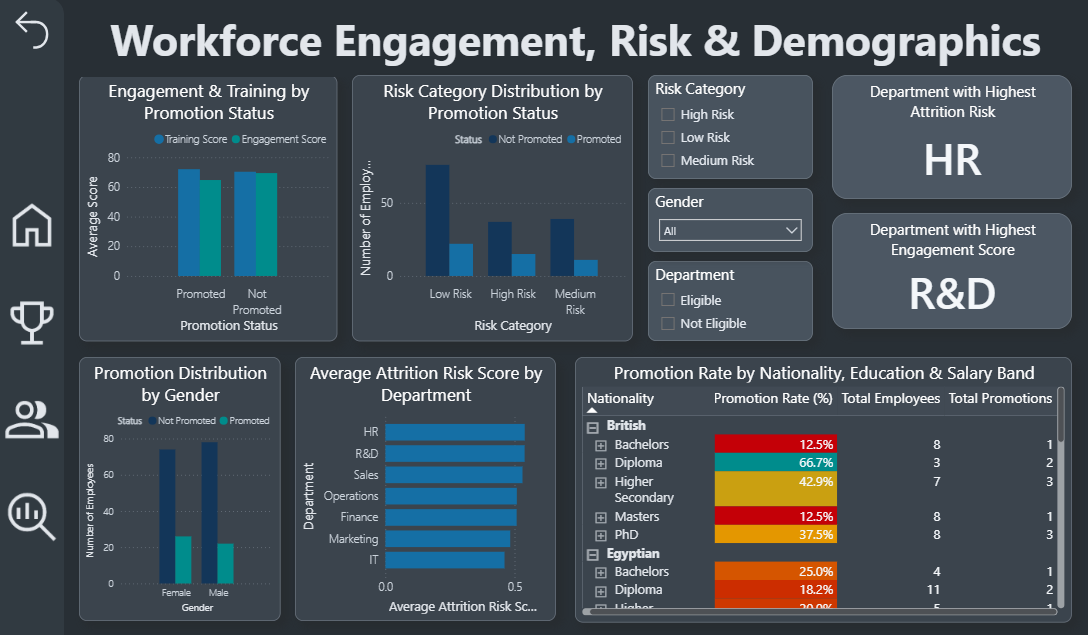

This screenshot's page, from the dashboard's own definition file:
{"tool":"powerbi","page":{"name":"Engagement, Risk & Demographics","canvas":[1360,800],"ordinal":2},"visuals":[{"type":"shape","box":[0,0,80,800],"z":0,"group":"g1"},{"type":"clusteredColumnChart","title":"Engagement & Training by Promotion Status","fields":{"Category":["Employees.Promotion Status"],"Y":["Avg(Employees.avg_training_score)","Measure Table.Average Engagement"]},"box":[98.7,96.6,322.9,332.5],"z":0},{"type":"pivotTable","title":"Promotion Rate by Nationality, Education & Salary Band","fields":{"Rows":["Employees.nationality","Employees.education","Employees.salary_band"],"Values":["Measure Table.Promotion Rate %","Measure Table.Total Employees","Measure Table.Total Promoted"]},"box":[718.8,448.7,621.4,331.6],"z":1000},{"type":"shape","box":[98.8,0,1241.2,98.8],"z":2000},{"type":"actionButton","box":[0,10,80,60],"z":2000,"group":"g1"},{"type":"group","id":"g1","title":"Group 2","box":[0,0,80,800],"z":3000},{"type":"clusteredColumnChart","title":"Risk Category Distribution by Promotion Status","fields":{"Y":["Measure Table.Total Employees"],"Series":["Employees.Promotion Status"],"Category":["Employees.Risk Category"]},"box":[439.7,96.6,350.6,332.5],"z":4000},{"type":"actionButton","box":[0,243.8,80,80],"z":4000,"group":"g1"},{"type":"clusteredBarChart","title":"Average Attrition Risk Score by Department","fields":{"Category":["Employees.department"],"Y":["Measure Table.Average Attrition Risk"]},"box":[368.7,448.7,325.8,330.4],"z":5000},{"type":"actionButton","box":[0,486.2,80,80],"z":5000,"group":"g1"},{"type":"clusteredColumnChart","title":"Promotion Distribution by Gender","fields":{"Y":["Measure Table.Total Employees"],"Series":["Employees.Promotion Status"],"Category":["Employees.gender"]},"box":[98.7,448.4,251.8,330.1],"z":6000},{"type":"actionButton","box":[0,608.8,80,80],"z":6000,"group":"g1"},{"type":"slicer","title":"Department","fields":{"Values":["Employees.Promotion_Eligibility"]},"box":[809.6,329.2,206,100],"z":7000},{"type":"actionButton","box":[0,366.2,80,80],"z":7000,"group":"g1"},{"type":"slicer","title":"Risk Category","fields":{"Values":["Employees.Risk Category"]},"box":[809.6,96.6,206,130.1],"z":8000},{"type":"slicer","title":"Gender","fields":{"Values":["Employees.gender"]},"box":[809.6,237.6,206,79.5],"z":9000},{"type":"card","title":"Department with Highest Engagement Score","fields":{"Values":["Min(Employees.department)"]},"box":[1039.9,268.7,300.3,161.2],"z":10000},{"type":"card","title":"Department with Highest Attrition Risk","fields":{"Values":["Min(Employees.department)"]},"box":[1039.7,96.6,300,155.4],"z":11000}]}

Visuals, with their boxes on the page's 1360x800 design canvas (x1, y1, x2, y2). These are canvas units, not pixel positions in the 1088x635 screenshot, which may show the page scaled, cropped or inside an application window:
shape: Rect(0, 0, 80, 800)
"Engagement & Training by Promotion Status" clusteredColumnChart: Rect(99, 97, 422, 429)
"Promotion Rate by Nationality, Education & Salary Band" pivotTable: Rect(719, 449, 1340, 780)
shape: Rect(99, 0, 1340, 99)
actionButton: Rect(0, 10, 80, 70)
"Group 2" group: Rect(0, 0, 80, 800)
"Risk Category Distribution by Promotion Status" clusteredColumnChart: Rect(440, 97, 790, 429)
actionButton: Rect(0, 244, 80, 324)
"Average Attrition Risk Score by Department" clusteredBarChart: Rect(369, 449, 694, 779)
actionButton: Rect(0, 486, 80, 566)
"Promotion Distribution by Gender" clusteredColumnChart: Rect(99, 448, 350, 778)
actionButton: Rect(0, 609, 80, 689)
"Department" slicer: Rect(810, 329, 1016, 429)
actionButton: Rect(0, 366, 80, 446)
"Risk Category" slicer: Rect(810, 97, 1016, 227)
"Gender" slicer: Rect(810, 238, 1016, 317)
"Department with Highest Engagement Score" card: Rect(1040, 269, 1340, 430)
"Department with Highest Attrition Risk" card: Rect(1040, 97, 1340, 252)
